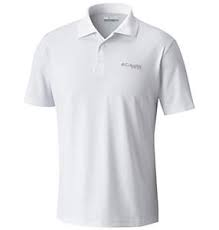C_polo shirt: (17, 6, 202, 230)
